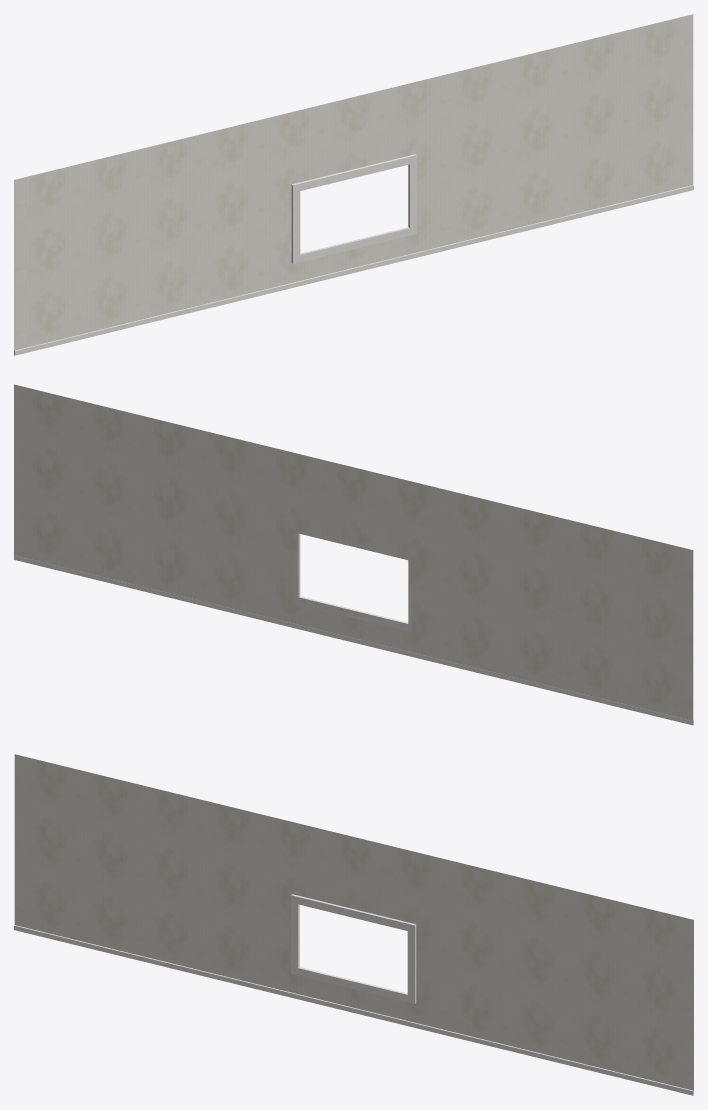
3 views of the same model, one above another, from view 1: azimuth 30°, elevation 25°; view 2: azimuth 150°, elevation 25°; view 3: azimuth 330°, elevation 25° (orthographic).
Visible parts, largest first — view 1: jx_wm_22_08954101; view 2: jx_wm_22_08954101; view 3: jx_wm_22_08954101.
Part boxes in pixels (x1,y1,x2,y2): jx_wm_22_08954101: (14,14,693,355); jx_wm_22_08954101: (14,384,693,725); jx_wm_22_08954101: (14,754,693,1095).
Bounding box in the file's own units: 22.3 × 5.5 × 0.086.
Materials: 2 (2 with a texture image).
